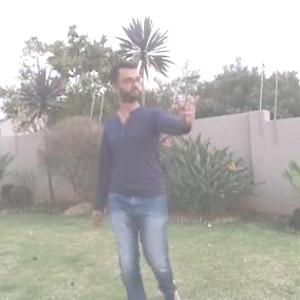takeoff-hand: (171, 88, 205, 126)
